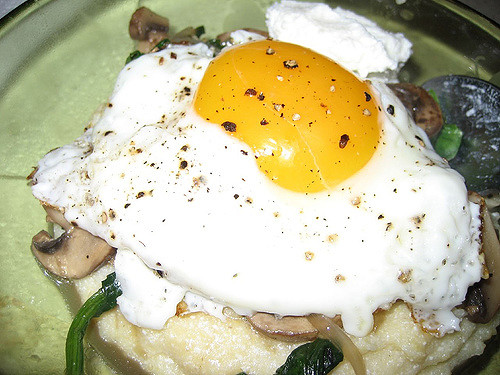fried egg: (43, 39, 466, 297)
